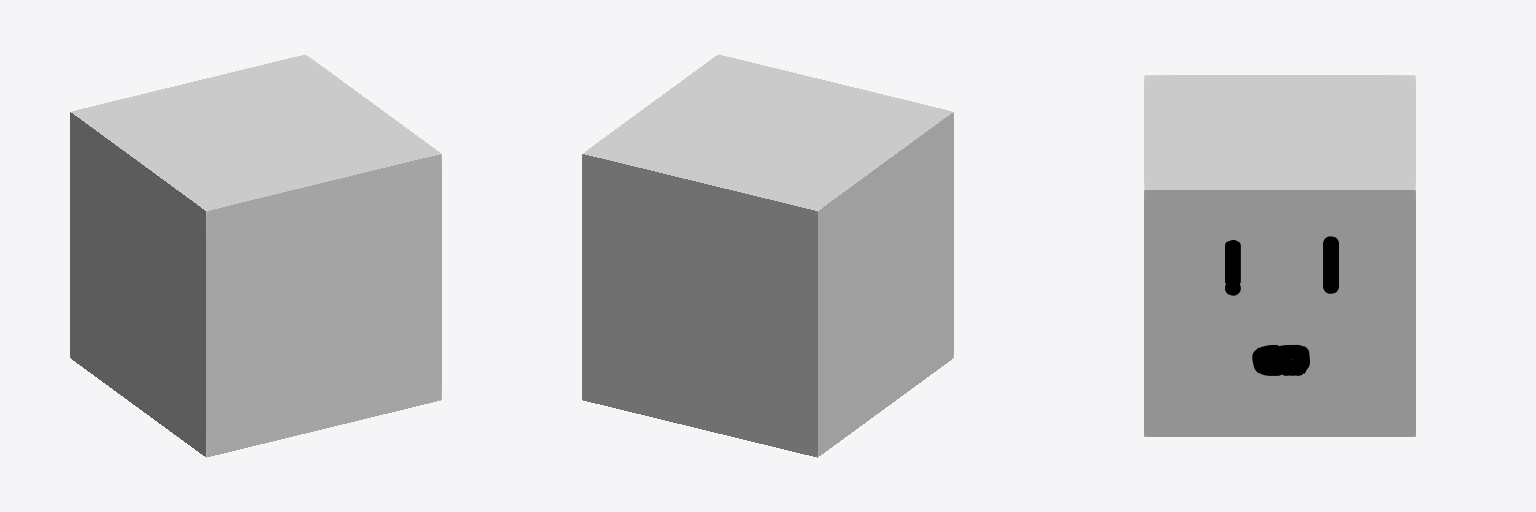
3 renders of one model, left to right at view 1: azimuth 30°, elevation 25°; view 2: azimuth 150°, elevation 25°; view 3: azimuth 270°, elevation 25°, orthographic.
Visible parts, largest first — view 1: Cube; view 2: Cube; view 3: Cube.
Part boxes in pixels (x1,y1,x2,y2): Cube: (70,54,441,457); Cube: (582,54,953,457); Cube: (1144,75,1415,436).
Bounding box in the file's own units: 2 × 2 × 2.
Materials: 1 (1 with a texture image).